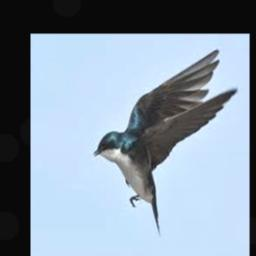Swallow: (94, 47, 237, 235)
